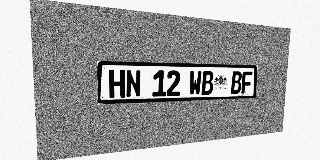1: (152, 70, 167, 97)
2: (167, 70, 180, 96)
B: (201, 71, 214, 95), (231, 71, 242, 94)
F: (241, 71, 252, 94)
H: (109, 70, 125, 98)
N: (126, 70, 141, 98)
W: (189, 71, 202, 95)
